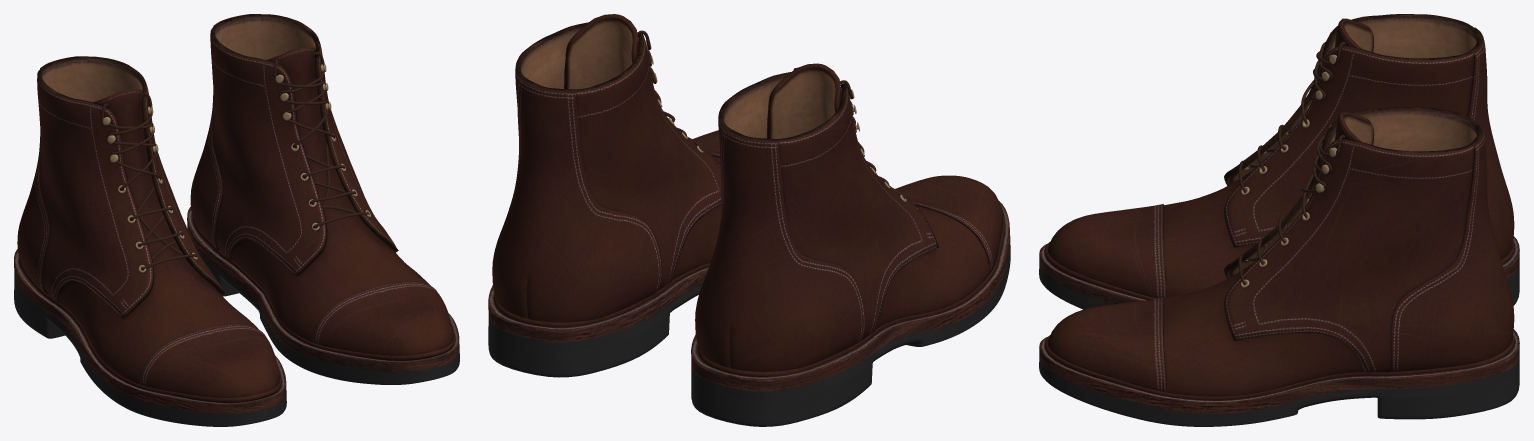
The model's file is buwch_Boots (1).glb.
3 views of the same model, side by side, from view 1: azimuth 30°, elevation 25°; view 2: azimuth 150°, elevation 25°; view 3: azimuth 270°, elevation 25° (orthographic). The views are drawn at different scales.
Parts seen in each view (by area): view 1: Retopology.023, Retopology.022; view 2: Retopology.023, Retopology.022; view 3: Retopology.022, Retopology.023.
Boxes of the visible parts, x1,y1,x2,y2 form: Retopology.023: (14, 56, 286, 426); Retopology.022: (187, 14, 459, 384); Retopology.023: (691, 63, 1010, 426); Retopology.022: (488, 14, 721, 377); Retopology.022: (1039, 107, 1519, 426); Retopology.023: (1039, 14, 1519, 309).
Size of the model in its own units: 0.2242 by 0.1664 by 0.2645.
1 material, 1 textured.
